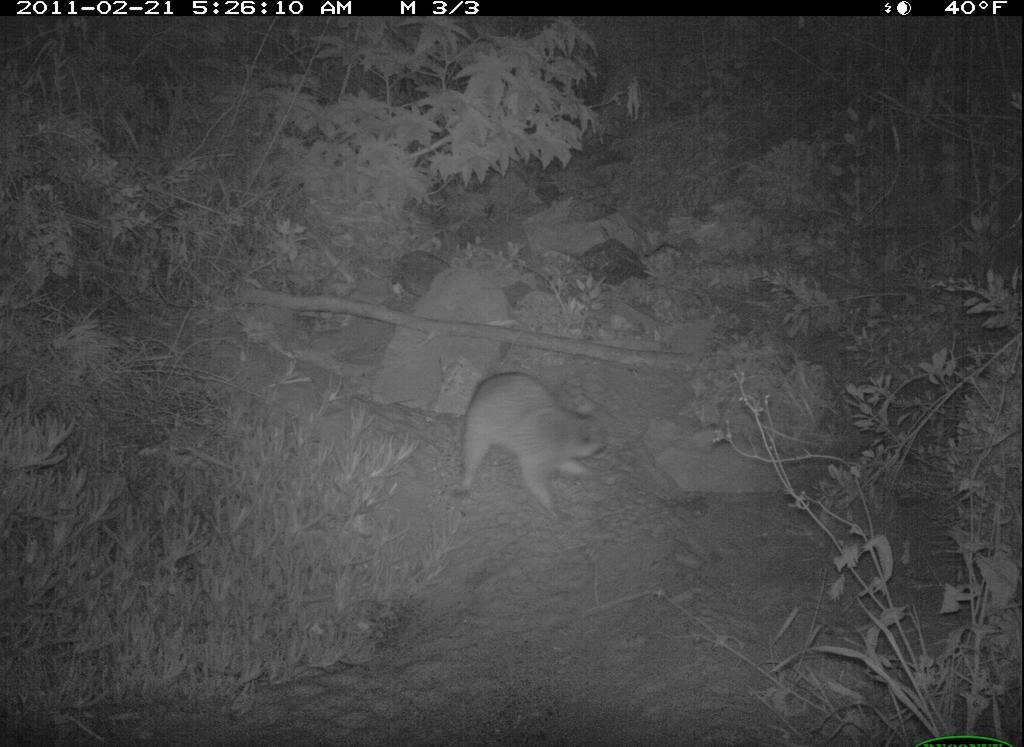raccoon: (443, 360, 625, 528)
